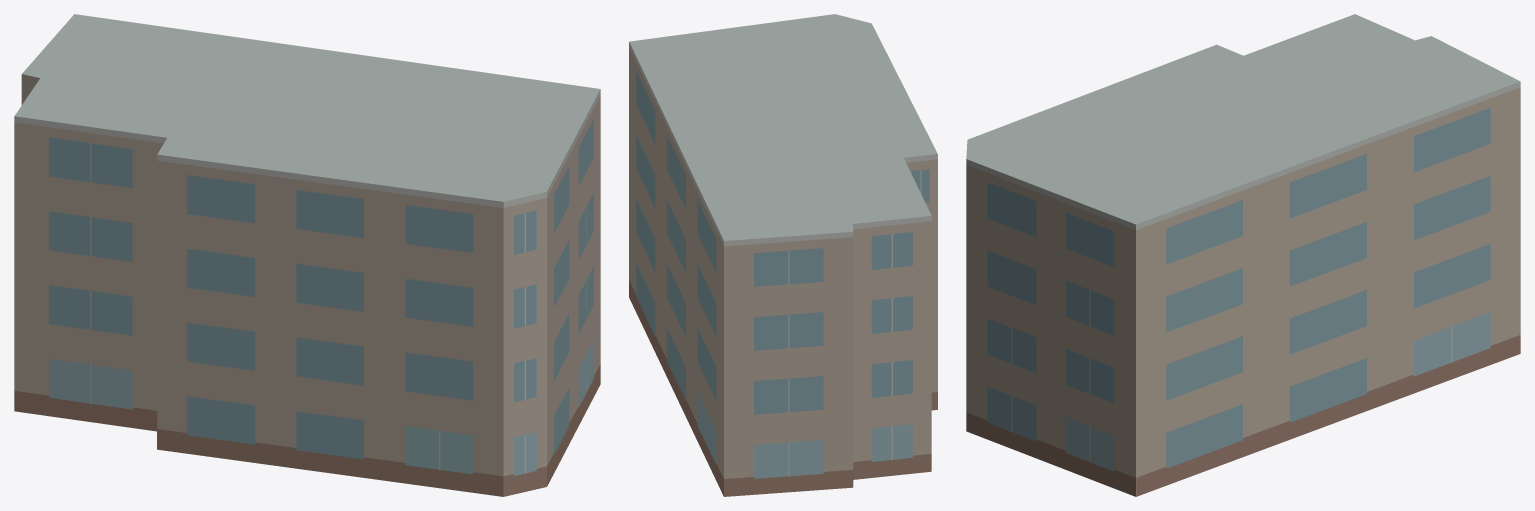
Rendered from survey-upis-32618409.glb.
The picture shows the model from 3 angles, left to right: view 1: azimuth 30°, elevation 25°; view 2: azimuth 150°, elevation 25°; view 3: azimuth 270°, elevation 25°; orthographic projection. The views are drawn at different scales.
Parts seen in each view (by area): view 1: survey-upis-32618409.tmp; view 2: survey-upis-32618409.tmp; view 3: survey-upis-32618409.tmp.
Part boxes in pixels (x1=…): survey-upis-32618409.tmp: x1=14, y1=14, x2=600, y2=496; survey-upis-32618409.tmp: x1=629, y1=14, x2=937, y2=496; survey-upis-32618409.tmp: x1=966, y1=14, x2=1520, y2=496.
Size of the model in its own units: 19.41 by 11.7 by 21.6.
